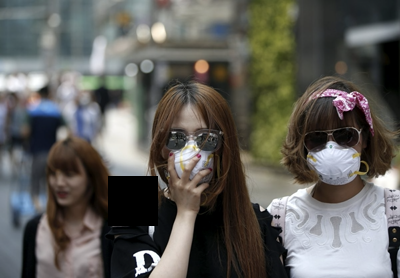with_mask: (305, 122, 362, 187), (164, 124, 216, 185)
without_mask: (50, 167, 87, 207)
